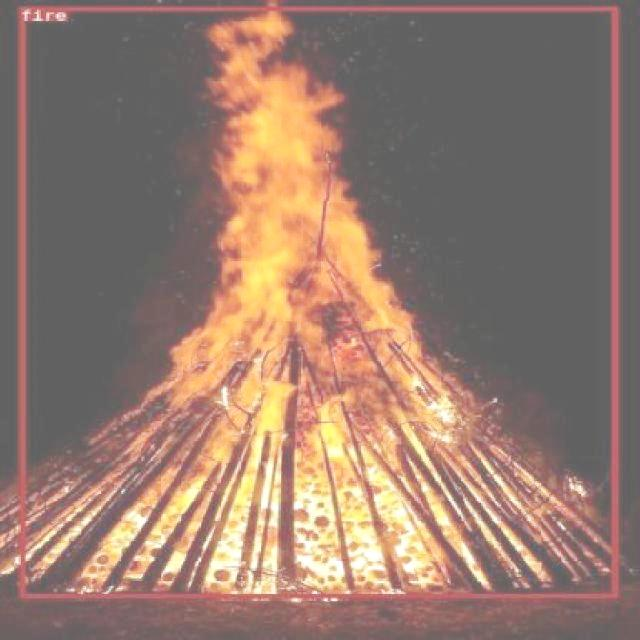fire: (18, 6, 616, 597)
